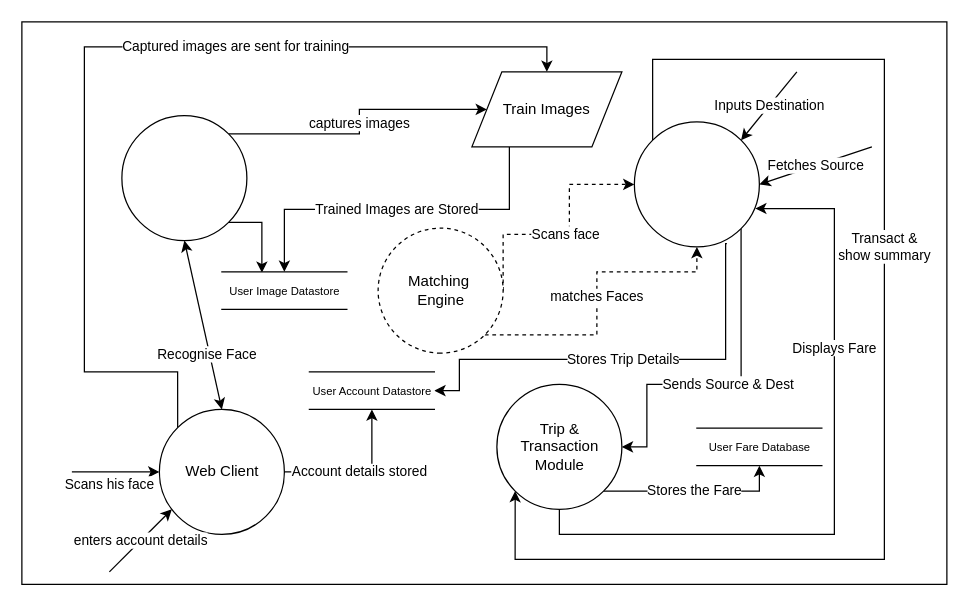
The diagram is 969 pixels wide and 606 high, and some of its shapes have lost their labels. The shapes that lost their labels are listed below. From the top down, each one's centre as x and y in pixels, then its label:
At point (184, 177): "Facial Recognition".
At point (696, 184): "Cab Client".
